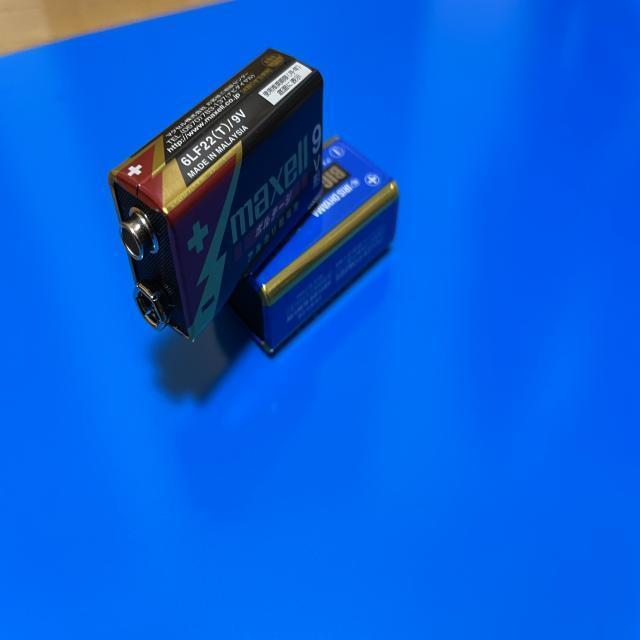9V: (108, 46, 324, 344), (221, 134, 400, 357)
